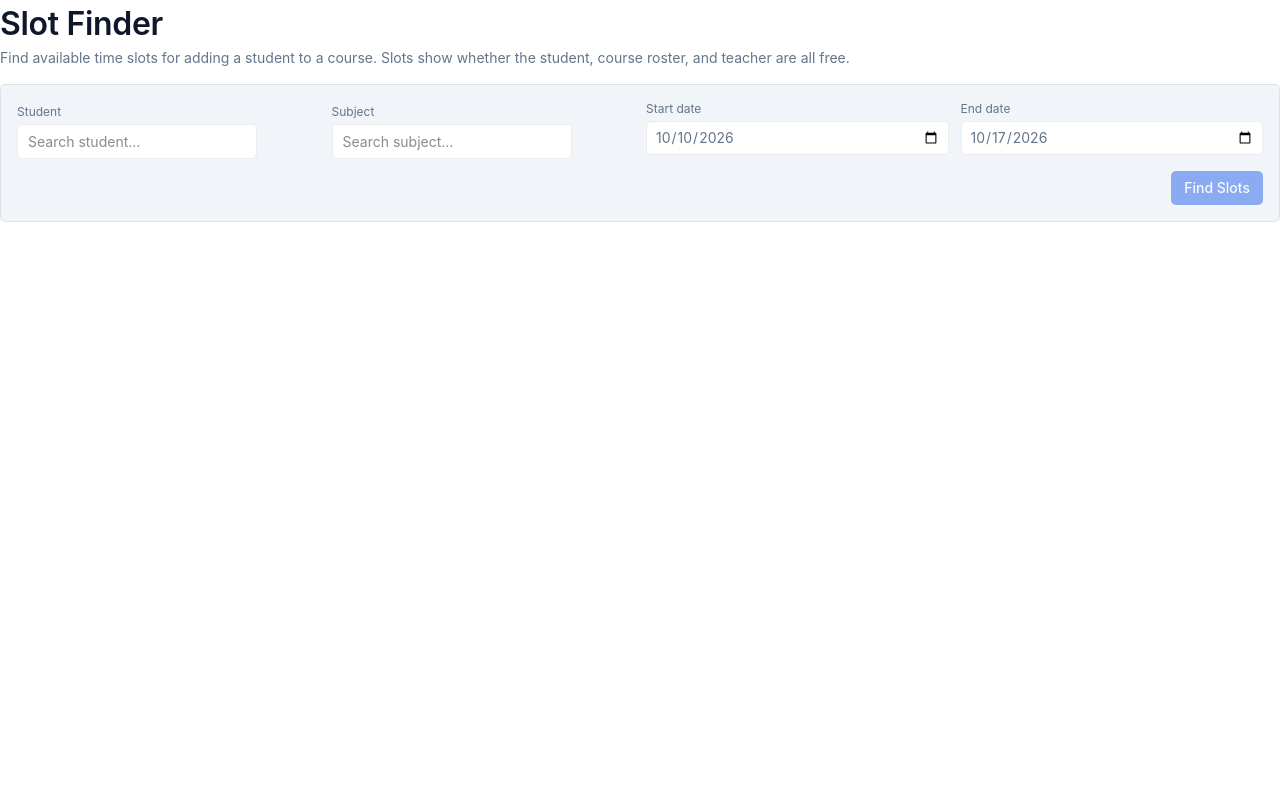
Scenario: SlotFinder subject search › filters subject options as the user types
In the dropdown labelled "Subject": (452, 142) [332,124,572,159], type "phys"
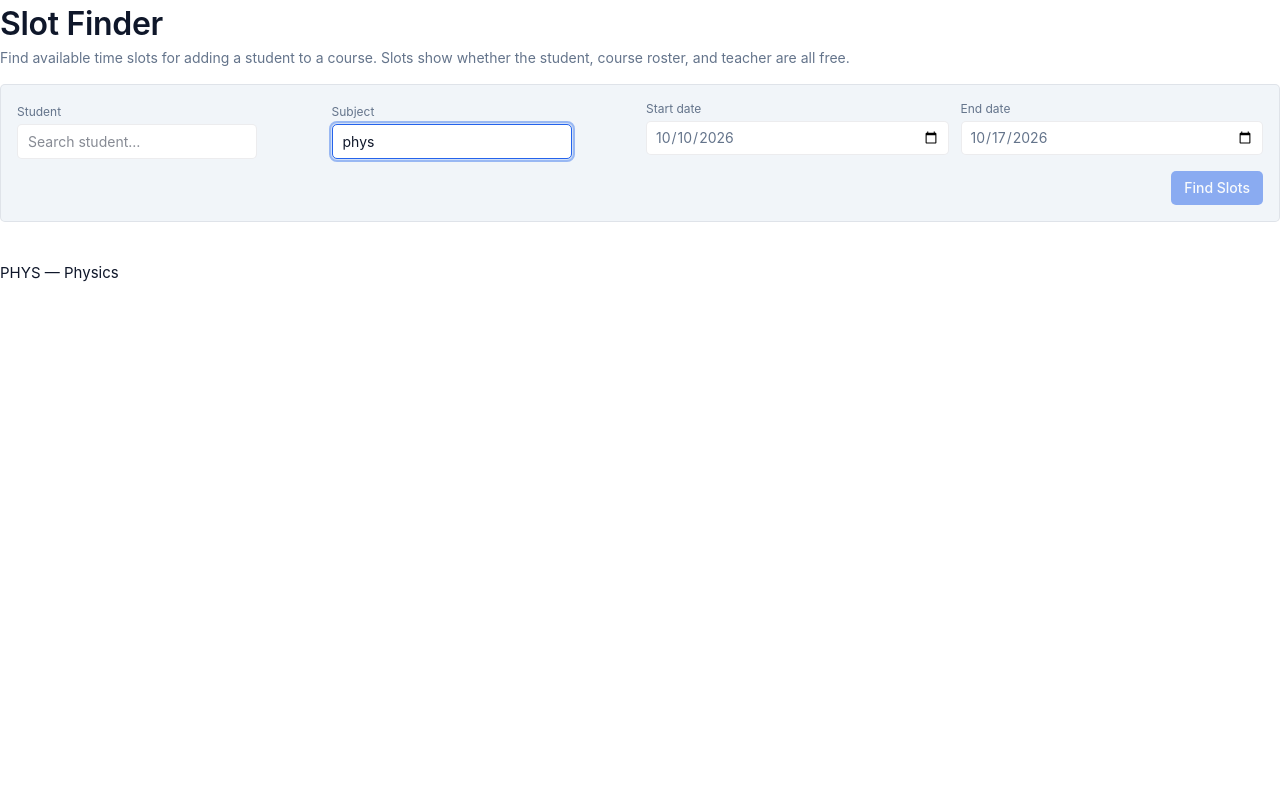
Expected: the option "PHYS — Physics" is shown, [0,246,119,284]
Expected: the option "MATH — Calculus" is gone
